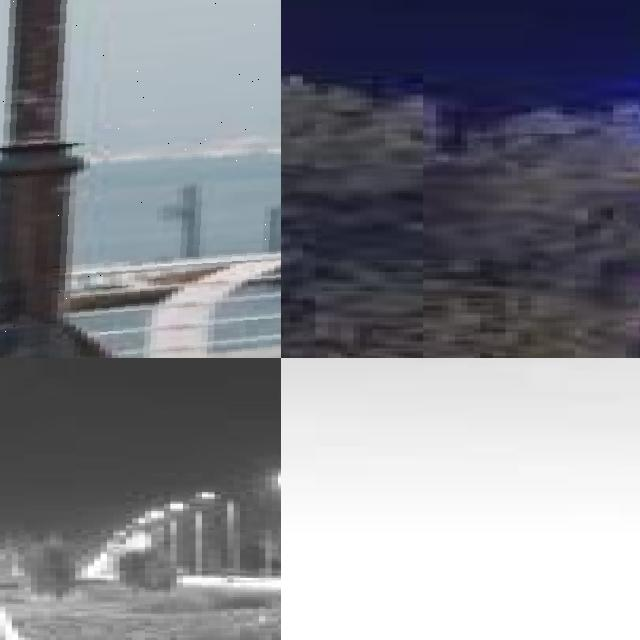street light: (0, 0, 281, 358), (196, 492, 237, 578), (170, 504, 205, 574)
